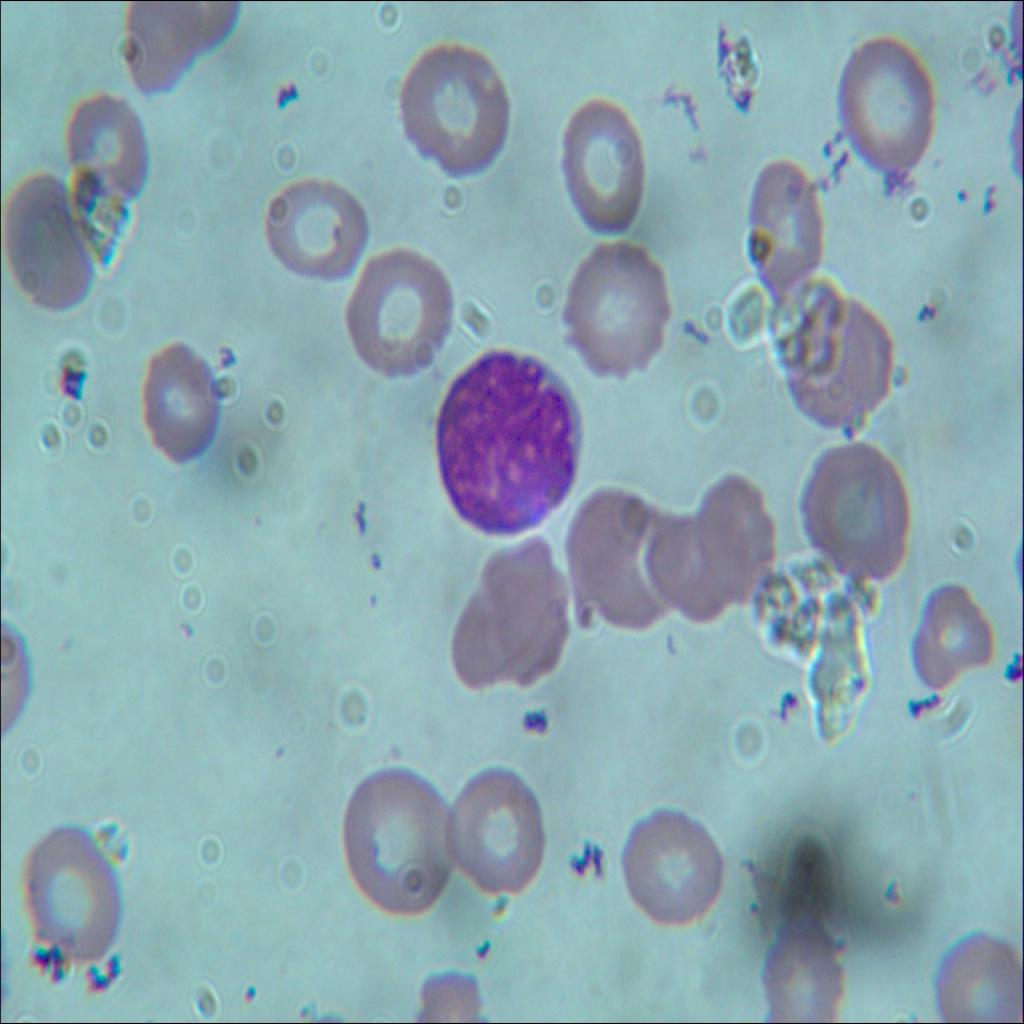Eritrosit: (393, 38, 510, 180), (563, 233, 674, 382), (0, 172, 110, 317), (804, 442, 916, 584), (619, 802, 733, 941), (21, 820, 124, 972), (346, 772, 455, 914), (566, 488, 661, 646), (446, 758, 548, 900), (471, 541, 571, 684), (838, 32, 938, 172), (135, 332, 228, 474), (343, 254, 453, 374), (793, 291, 895, 418), (562, 100, 648, 235), (61, 86, 150, 212), (260, 180, 366, 284), (690, 479, 781, 600), (642, 515, 739, 627), (756, 912, 853, 1023), (916, 571, 998, 694), (746, 159, 826, 282), (933, 924, 1023, 1023)
Platelet: (950, 162, 978, 211), (232, 975, 258, 1012), (364, 548, 386, 580)
